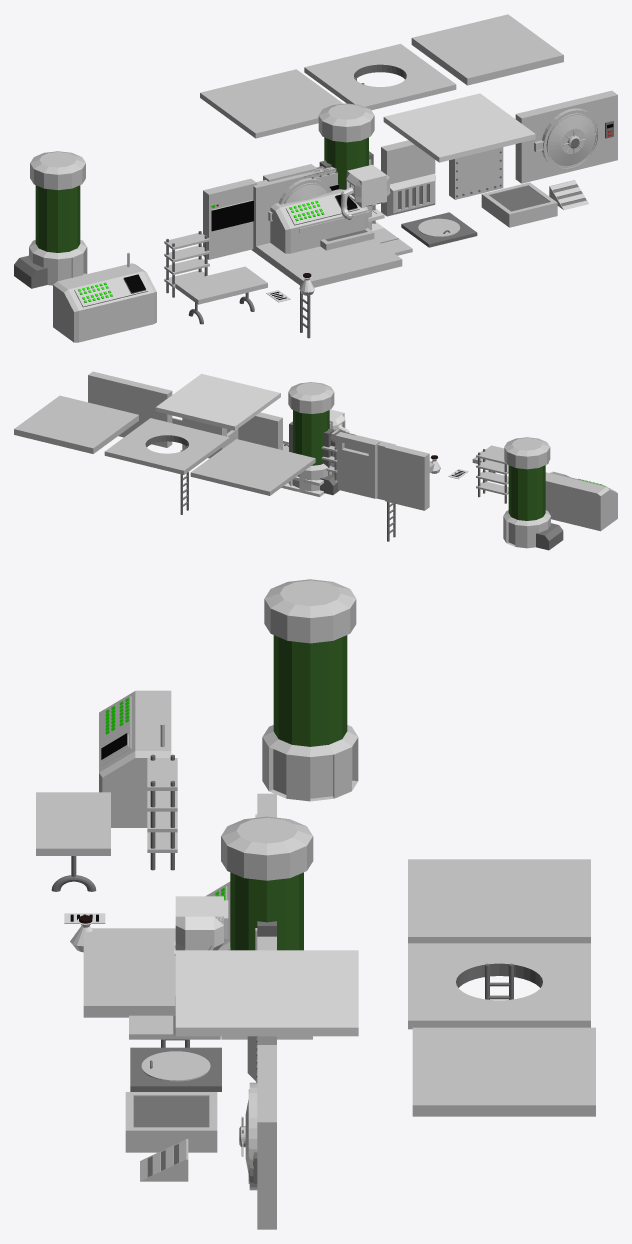
The model's file is door1.fbx.
3 views of the same model, one above another, from view 1: azimuth 30°, elevation 25°; view 2: azimuth 150°, elevation 25°; view 3: azimuth 270°, elevation 25° (orthographic). The views are drawn at different scales.
Visible parts, largest first — view 1: LabDevice.001, vault.001, Control Panel.001, Roof.006, Roof, Roof.004, Roof.005, Control Panel, Roof.003, WallScreen.001, LabDevice, Wall1.001 (+12 smaller); view 2: LabDevice.001, Roof.006, Roof, Roof.004, Roof.005, LabDevice, Control Panel.001, vault.001, WallScreen.001, Wall2.001, Shelf.001, Wall1.001 (+4 smaller); view 3: LabDevice.001, Roof.006, Roof, Roof.004, Roof.005, LabDevice, Roof.003, Control Panel.001, raisedFloor.001, Table.001, vault.001, floorVault.001 (+5 smaller).
Part boxes in pixels (bbox=[...]): LabDevice.001: bbox=[14, 151, 87, 288]; vault.001: bbox=[515, 90, 617, 183]; Control Panel.001: bbox=[53, 252, 156, 342]; Roof.006: bbox=[411, 14, 563, 85]; Roof: bbox=[383, 93, 535, 162]; Roof.004: bbox=[200, 69, 343, 138]; Roof.005: bbox=[304, 43, 456, 110]; Control Panel: bbox=[270, 189, 368, 253]; Roof.003: bbox=[251, 239, 402, 284]; WallScreen.001: bbox=[203, 178, 256, 259]; LabDevice: bbox=[318, 103, 375, 230]; Wall1.001: bbox=[381, 140, 435, 216]; LabDevice.001: bbox=[503, 437, 563, 550]; Roof.006: bbox=[14, 395, 138, 453]; Roof: bbox=[155, 373, 280, 430]; Roof.004: bbox=[190, 439, 315, 495]; Roof.005: bbox=[104, 418, 229, 514]; LabDevice: bbox=[288, 382, 339, 495]; Control Panel.001: bbox=[545, 471, 617, 531]; vault.001: bbox=[88, 371, 172, 447]; WallScreen.001: bbox=[385, 444, 429, 510]; Wall2.001: bbox=[335, 432, 379, 498]; Shelf.001: bbox=[476, 449, 508, 503]; Wall1.001: bbox=[238, 412, 282, 450]; LabDevice.001: bbox=[262, 579, 358, 801]; Roof.006: bbox=[412, 1027, 595, 1116]; Roof: bbox=[175, 950, 358, 1036]; Roof.004: bbox=[408, 859, 590, 943]; Roof.005: bbox=[408, 943, 590, 1029]; LabDevice: bbox=[221, 816, 313, 950]; Roof.003: bbox=[83, 928, 175, 1017]; Control Panel.001: bbox=[99, 690, 171, 827]; raisedFloor.001: bbox=[125, 1092, 217, 1152]; Table.001: bbox=[36, 792, 110, 891]; vault.001: bbox=[239, 1045, 276, 1229]; floorVault.001: bbox=[130, 1047, 221, 1091].
Size of the model in its own units: 4653 by 1470 by 2320.
